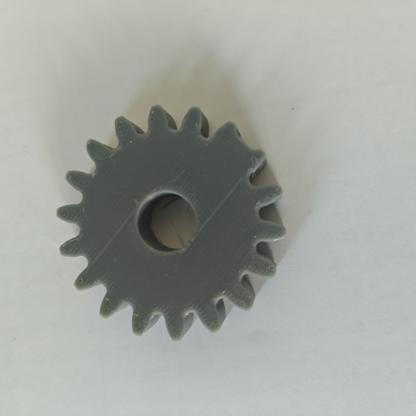defect: (197, 114, 283, 190)
gear: (53, 94, 307, 357)
